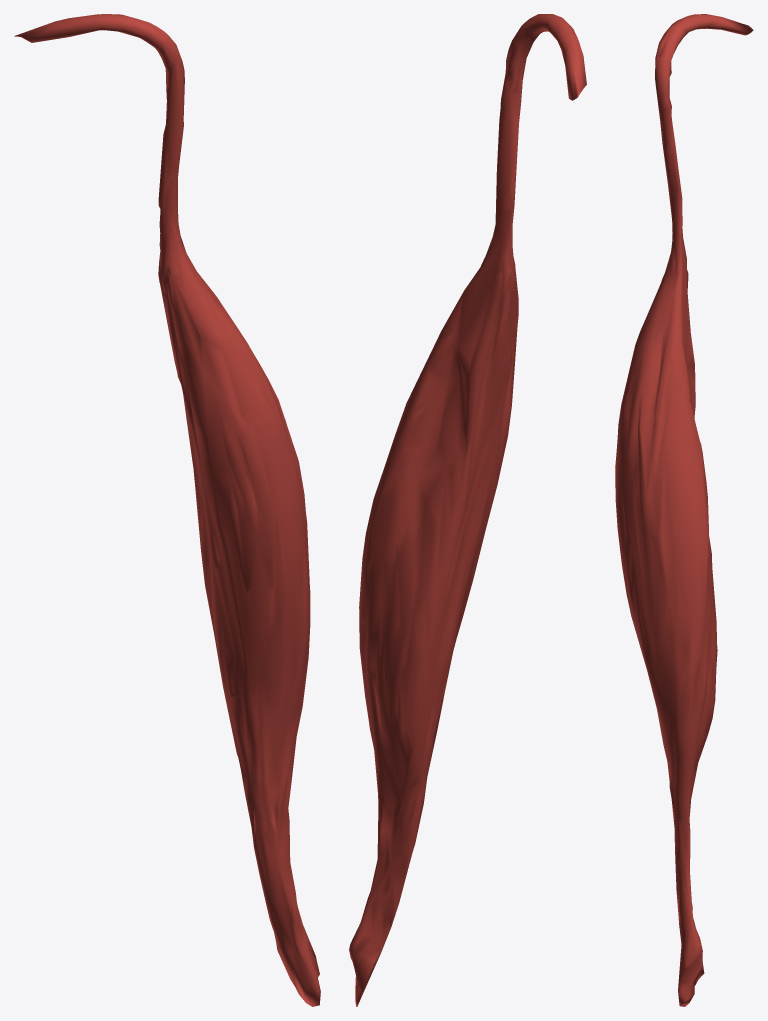
The model's file is musculos-long-head-of-biceps-brachii-l.glb.
3 renders of one model, left to right at view 1: azimuth 30°, elevation 25°; view 2: azimuth 150°, elevation 25°; view 3: azimuth 270°, elevation 25°, orthographic. The views are drawn at different scales.
Visible parts, largest first — view 1: Long head of biceps brachii.l; view 2: Long head of biceps brachii.l; view 3: Long head of biceps brachii.l.
Boxes of the visible parts, x1=… form: Long head of biceps brachii.l: x1=14, y1=14, x2=320, y2=1006; Long head of biceps brachii.l: x1=349, y1=14, x2=586, y2=1006; Long head of biceps brachii.l: x1=615, y1=14, x2=753, y2=1006.
Size of the model in its own units: 0.0951 by 0.3571 by 0.0497.
